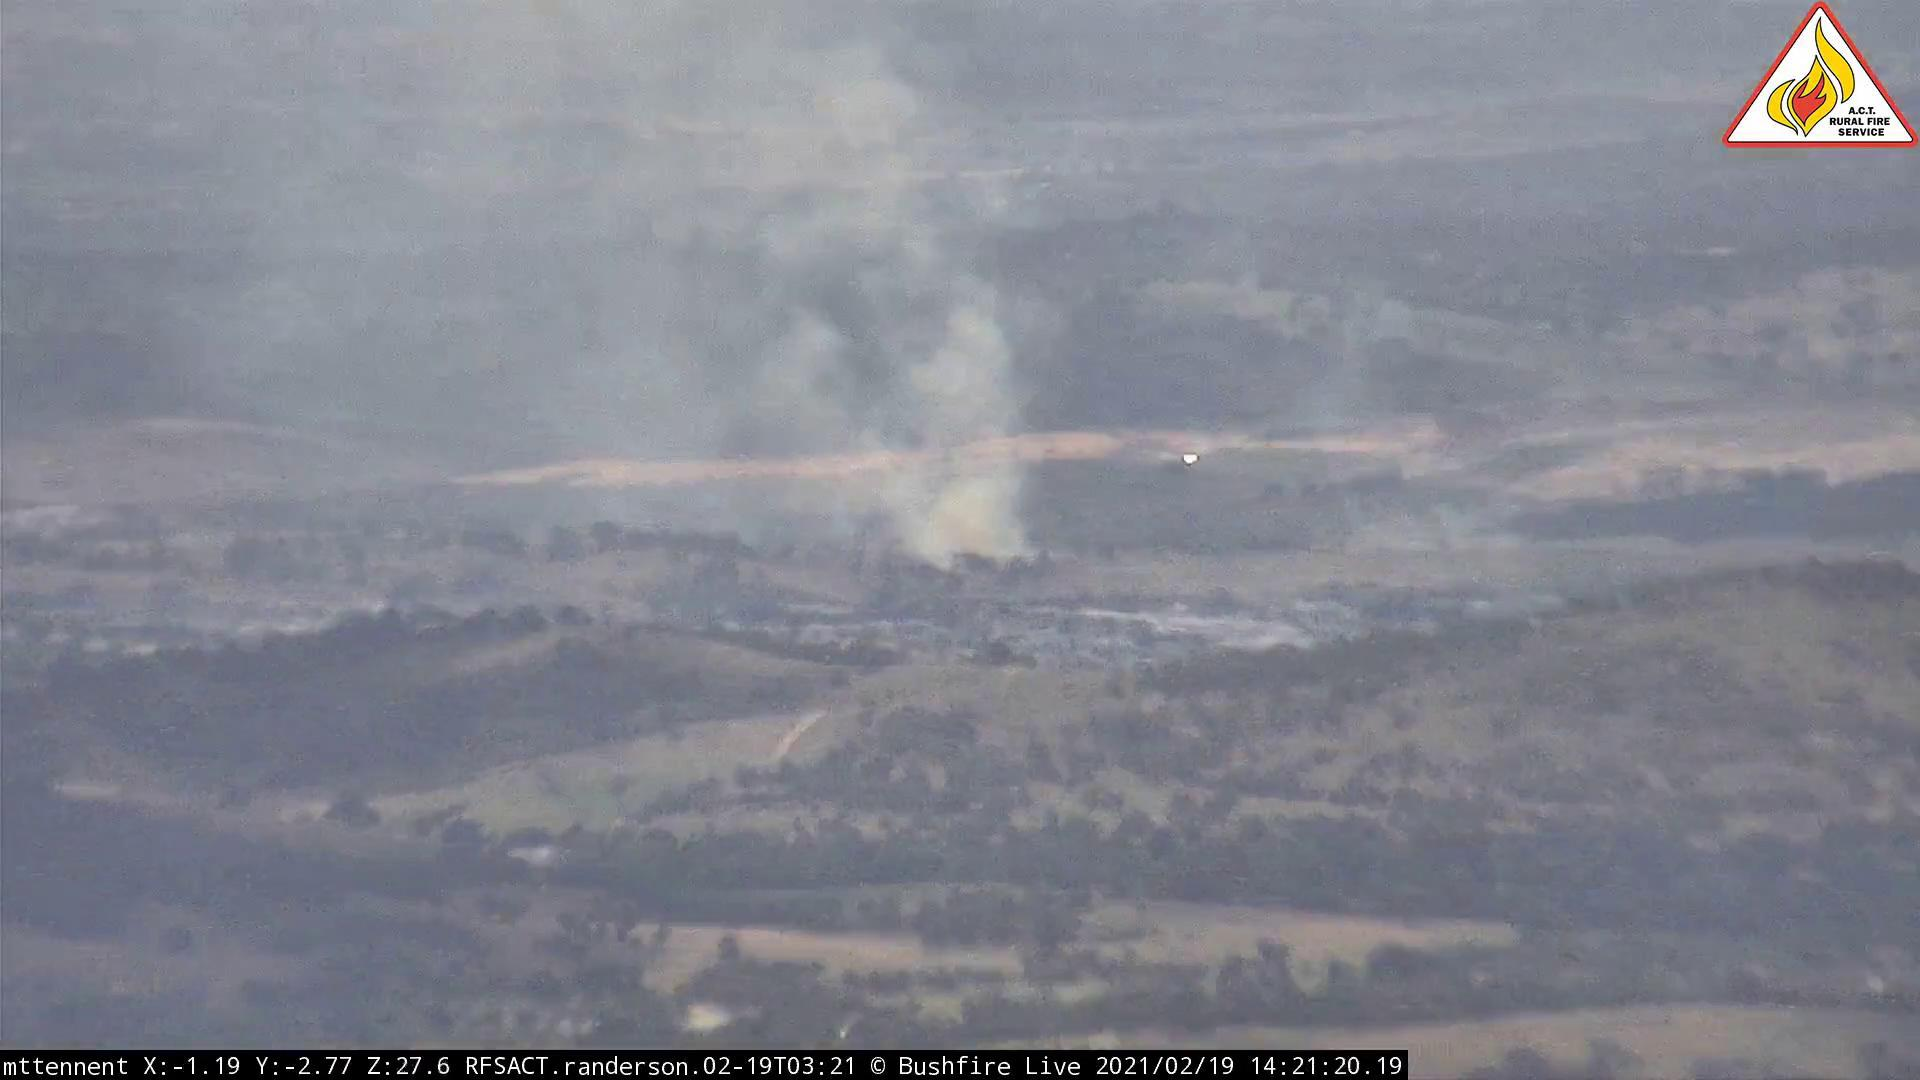Smoke: (415, 3, 1040, 574)
